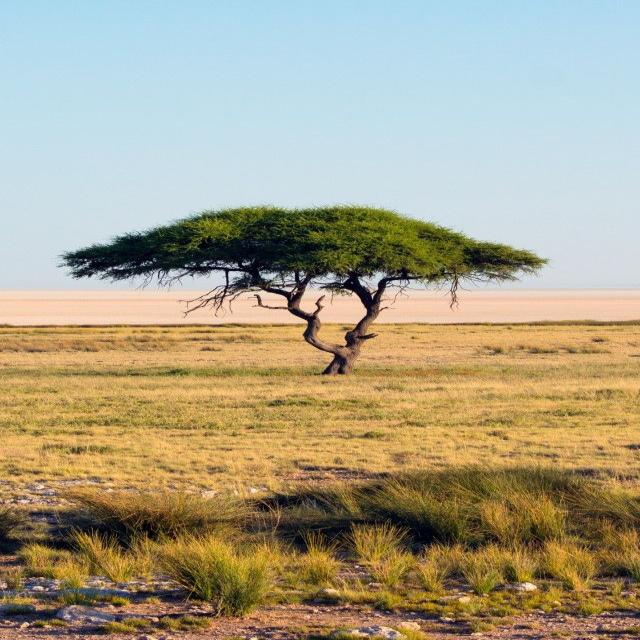Acacia: (68, 206, 534, 371)
